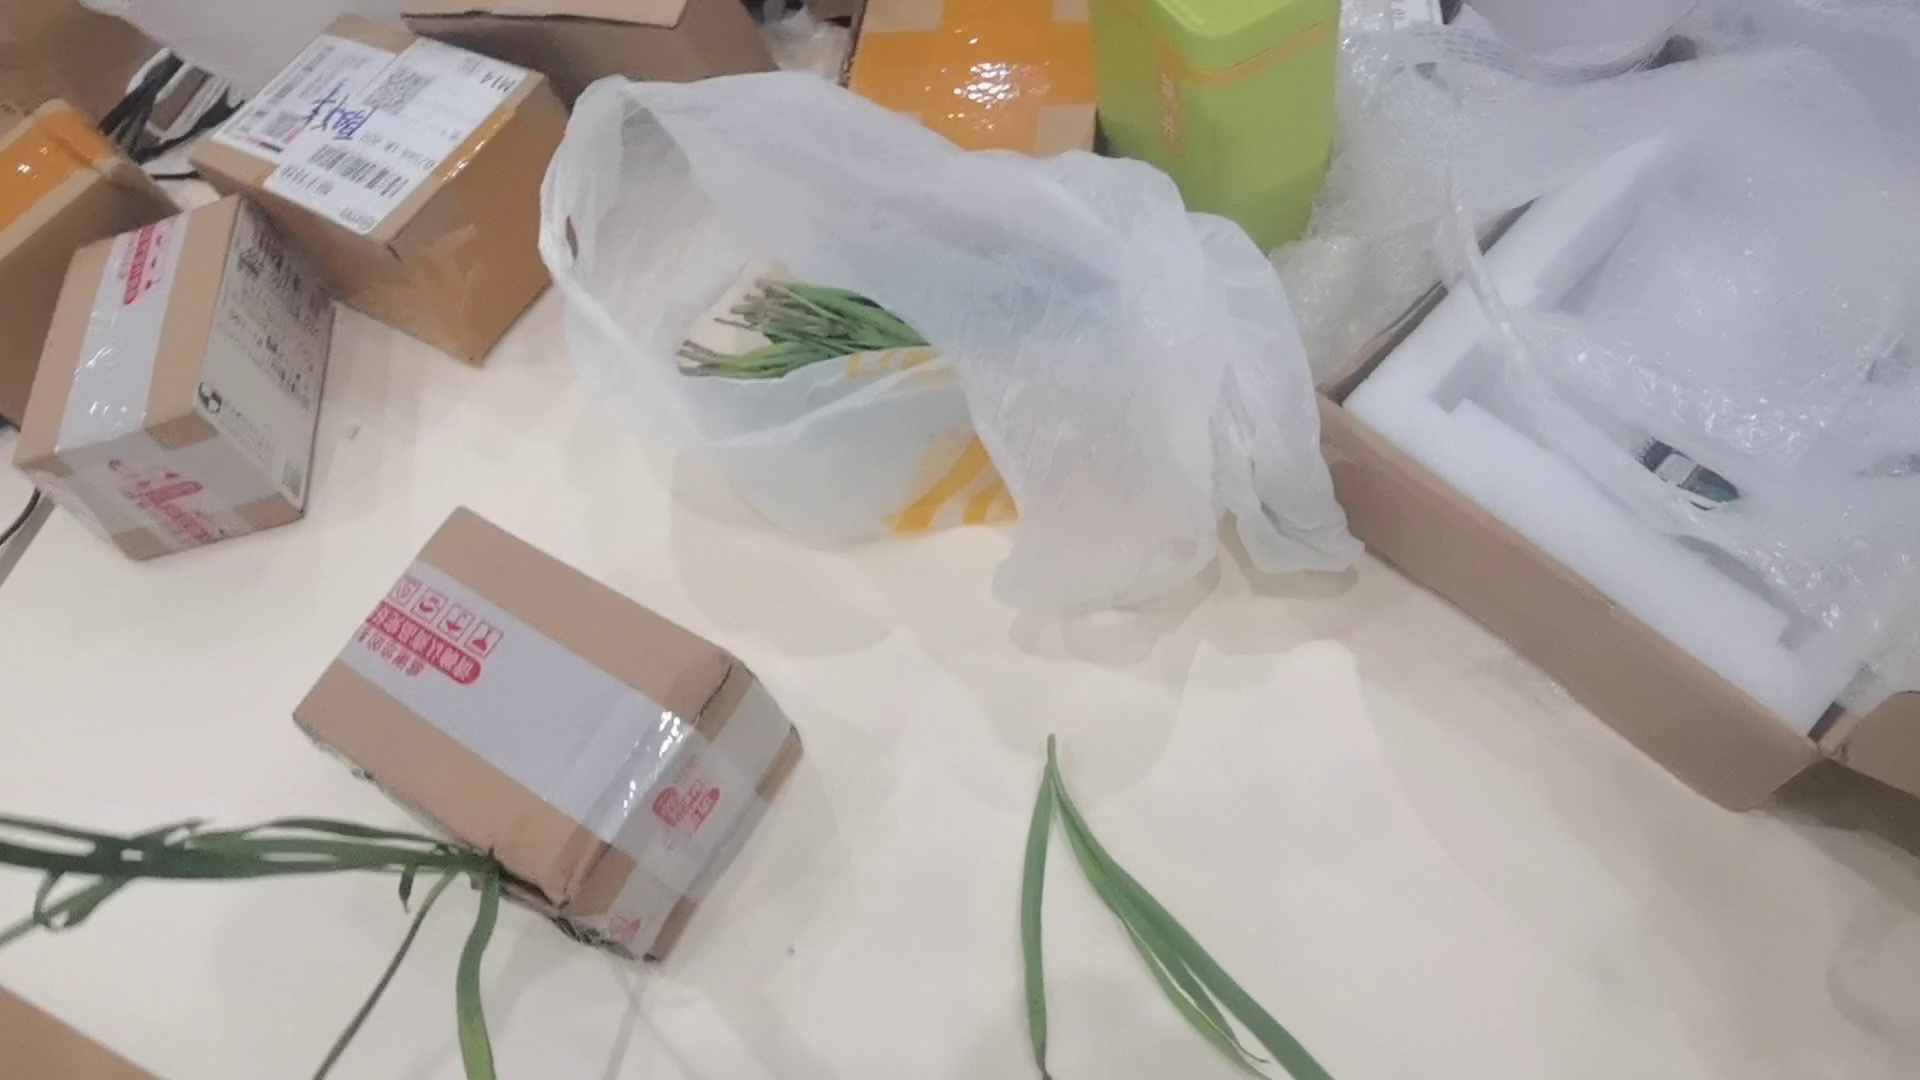chives: (4, 800, 535, 1080), (996, 723, 1373, 1080)
